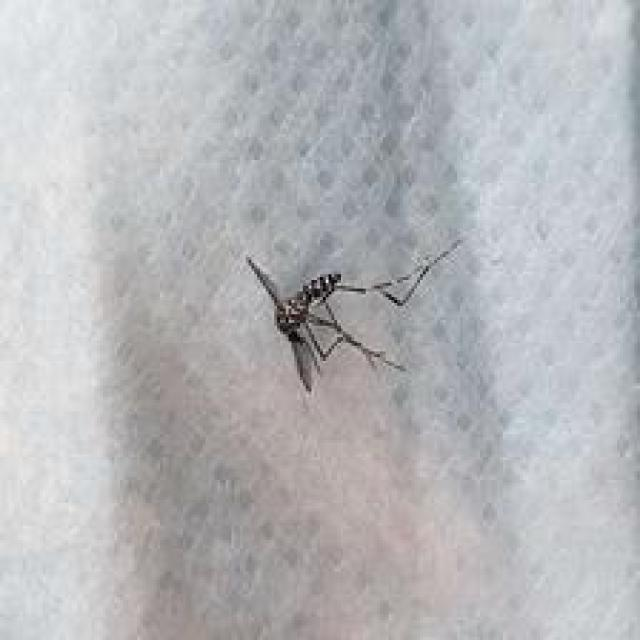Aedes albopictus: (245, 237, 464, 394)
